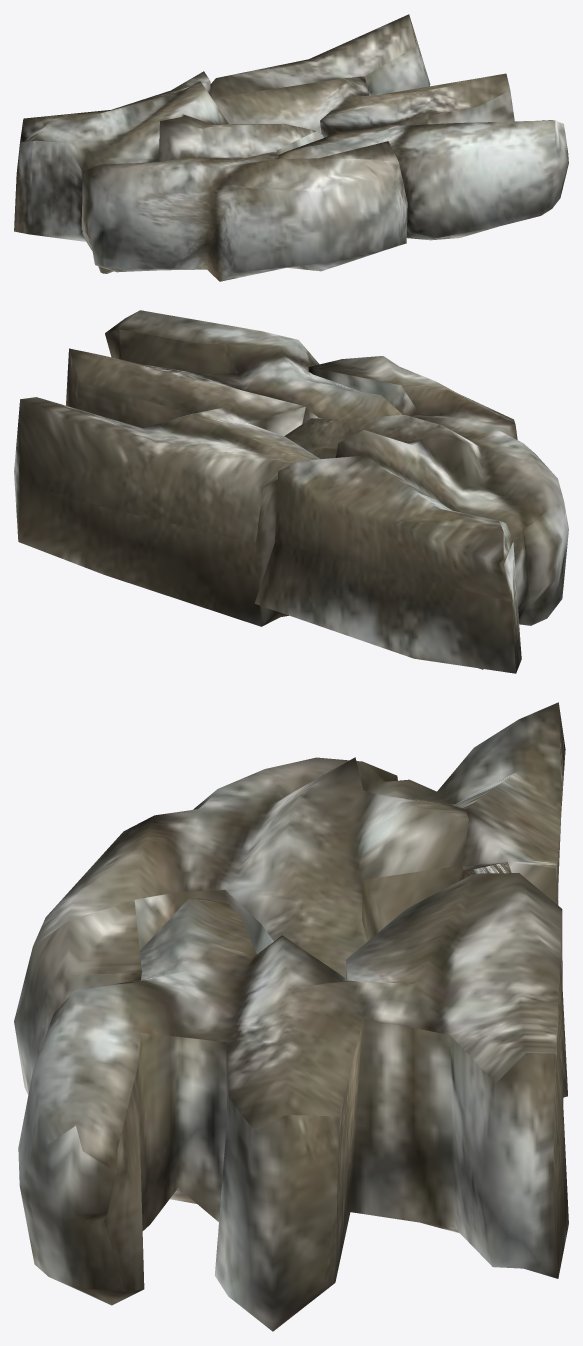
The model's file is military_sandbag_snow_endsection_left.glb.
3 renders of one model, top to bottom at view 1: azimuth 30°, elevation 25°; view 2: azimuth 150°, elevation 25°; view 3: azimuth 270°, elevation 25°, orthographic. The views are drawn at different scales.
Bounding box in the file's own units: 60.44 × 21.85 × 33.4.
1 material, 1 textured.
